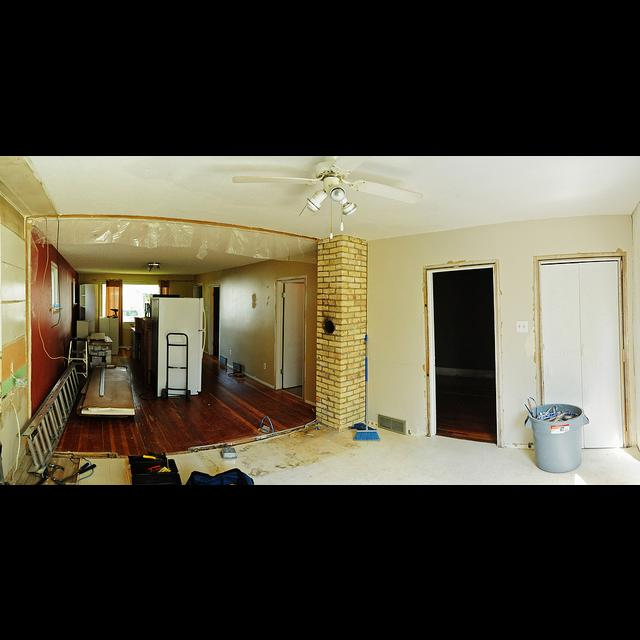Refrigerator: (149, 298, 207, 398)
